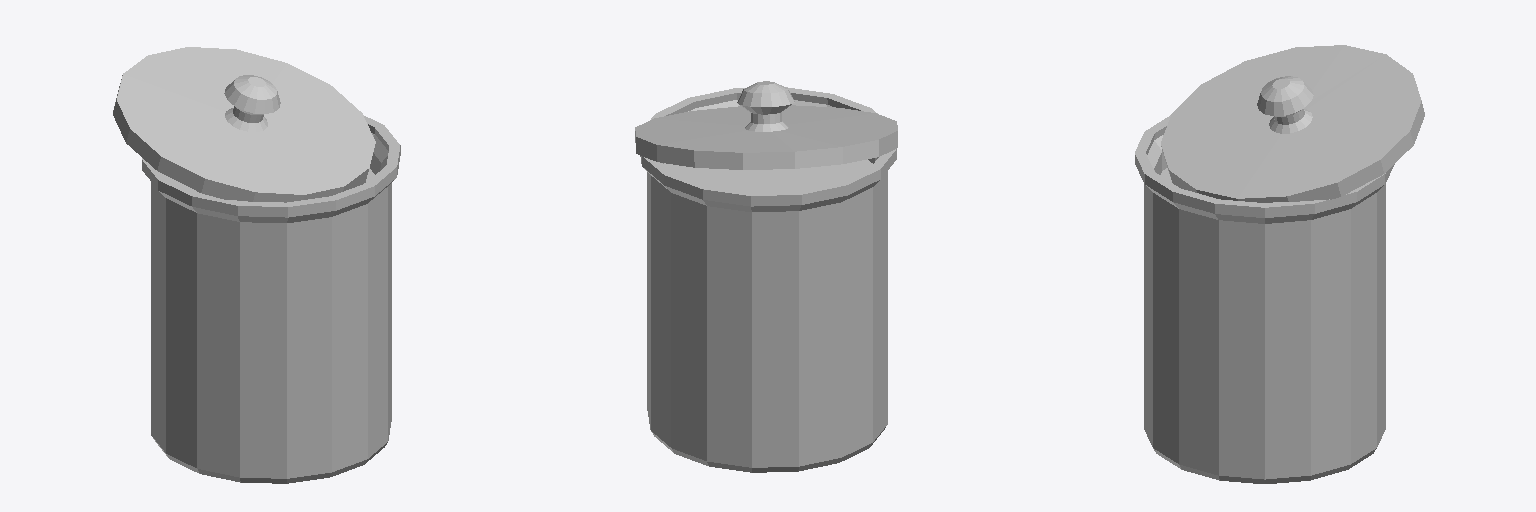
File: JarOfBrain.obj
3 renders of one model, left to right at view 1: azimuth 30°, elevation 25°; view 2: azimuth 150°, elevation 25°; view 3: azimuth 270°, elevation 25°, orthographic.
Parts seen in each view (by area): view 1: Line019, Line021; view 2: Line019, Line021, Line020; view 3: Line019, Line021.
Part boxes in pixels (left/top/right/bottom): Line019: left=142, top=116, right=400, bottom=483; Line021: left=113, top=47, right=375, bottom=202; Line019: left=640, top=87, right=896, bottom=472; Line021: left=635, top=81, right=897, bottom=169; Line020: left=664, top=159, right=872, bottom=191; Line019: left=1135, top=115, right=1394, bottom=483; Line021: left=1161, top=45, right=1424, bottom=202.
Size of the model in its own units: 14.84 by 20.58 by 15.49.